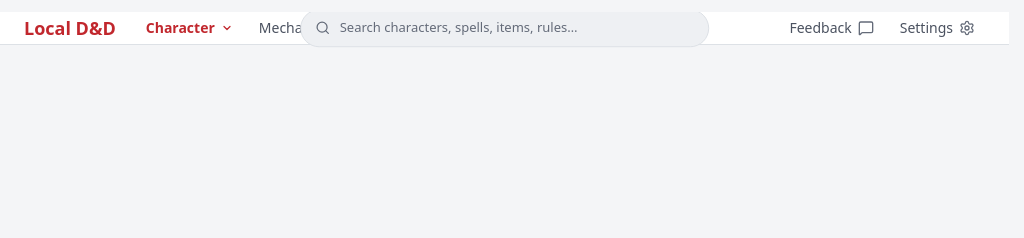
it: TopBar › on /characters marks character as the current section
The width and height of the screenshot is (1024, 238).
Step 1. Click the button "Character" → [189, 28], box [136,12,243,44]
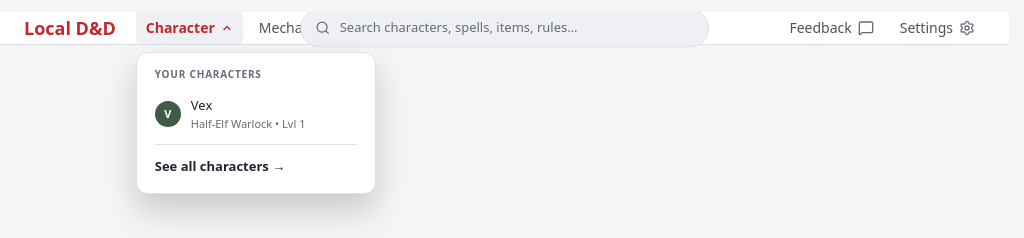
Check: the link "V Vex Half-Elf Warlock • Lvl 1" is shown, box [155,96,306,130]
